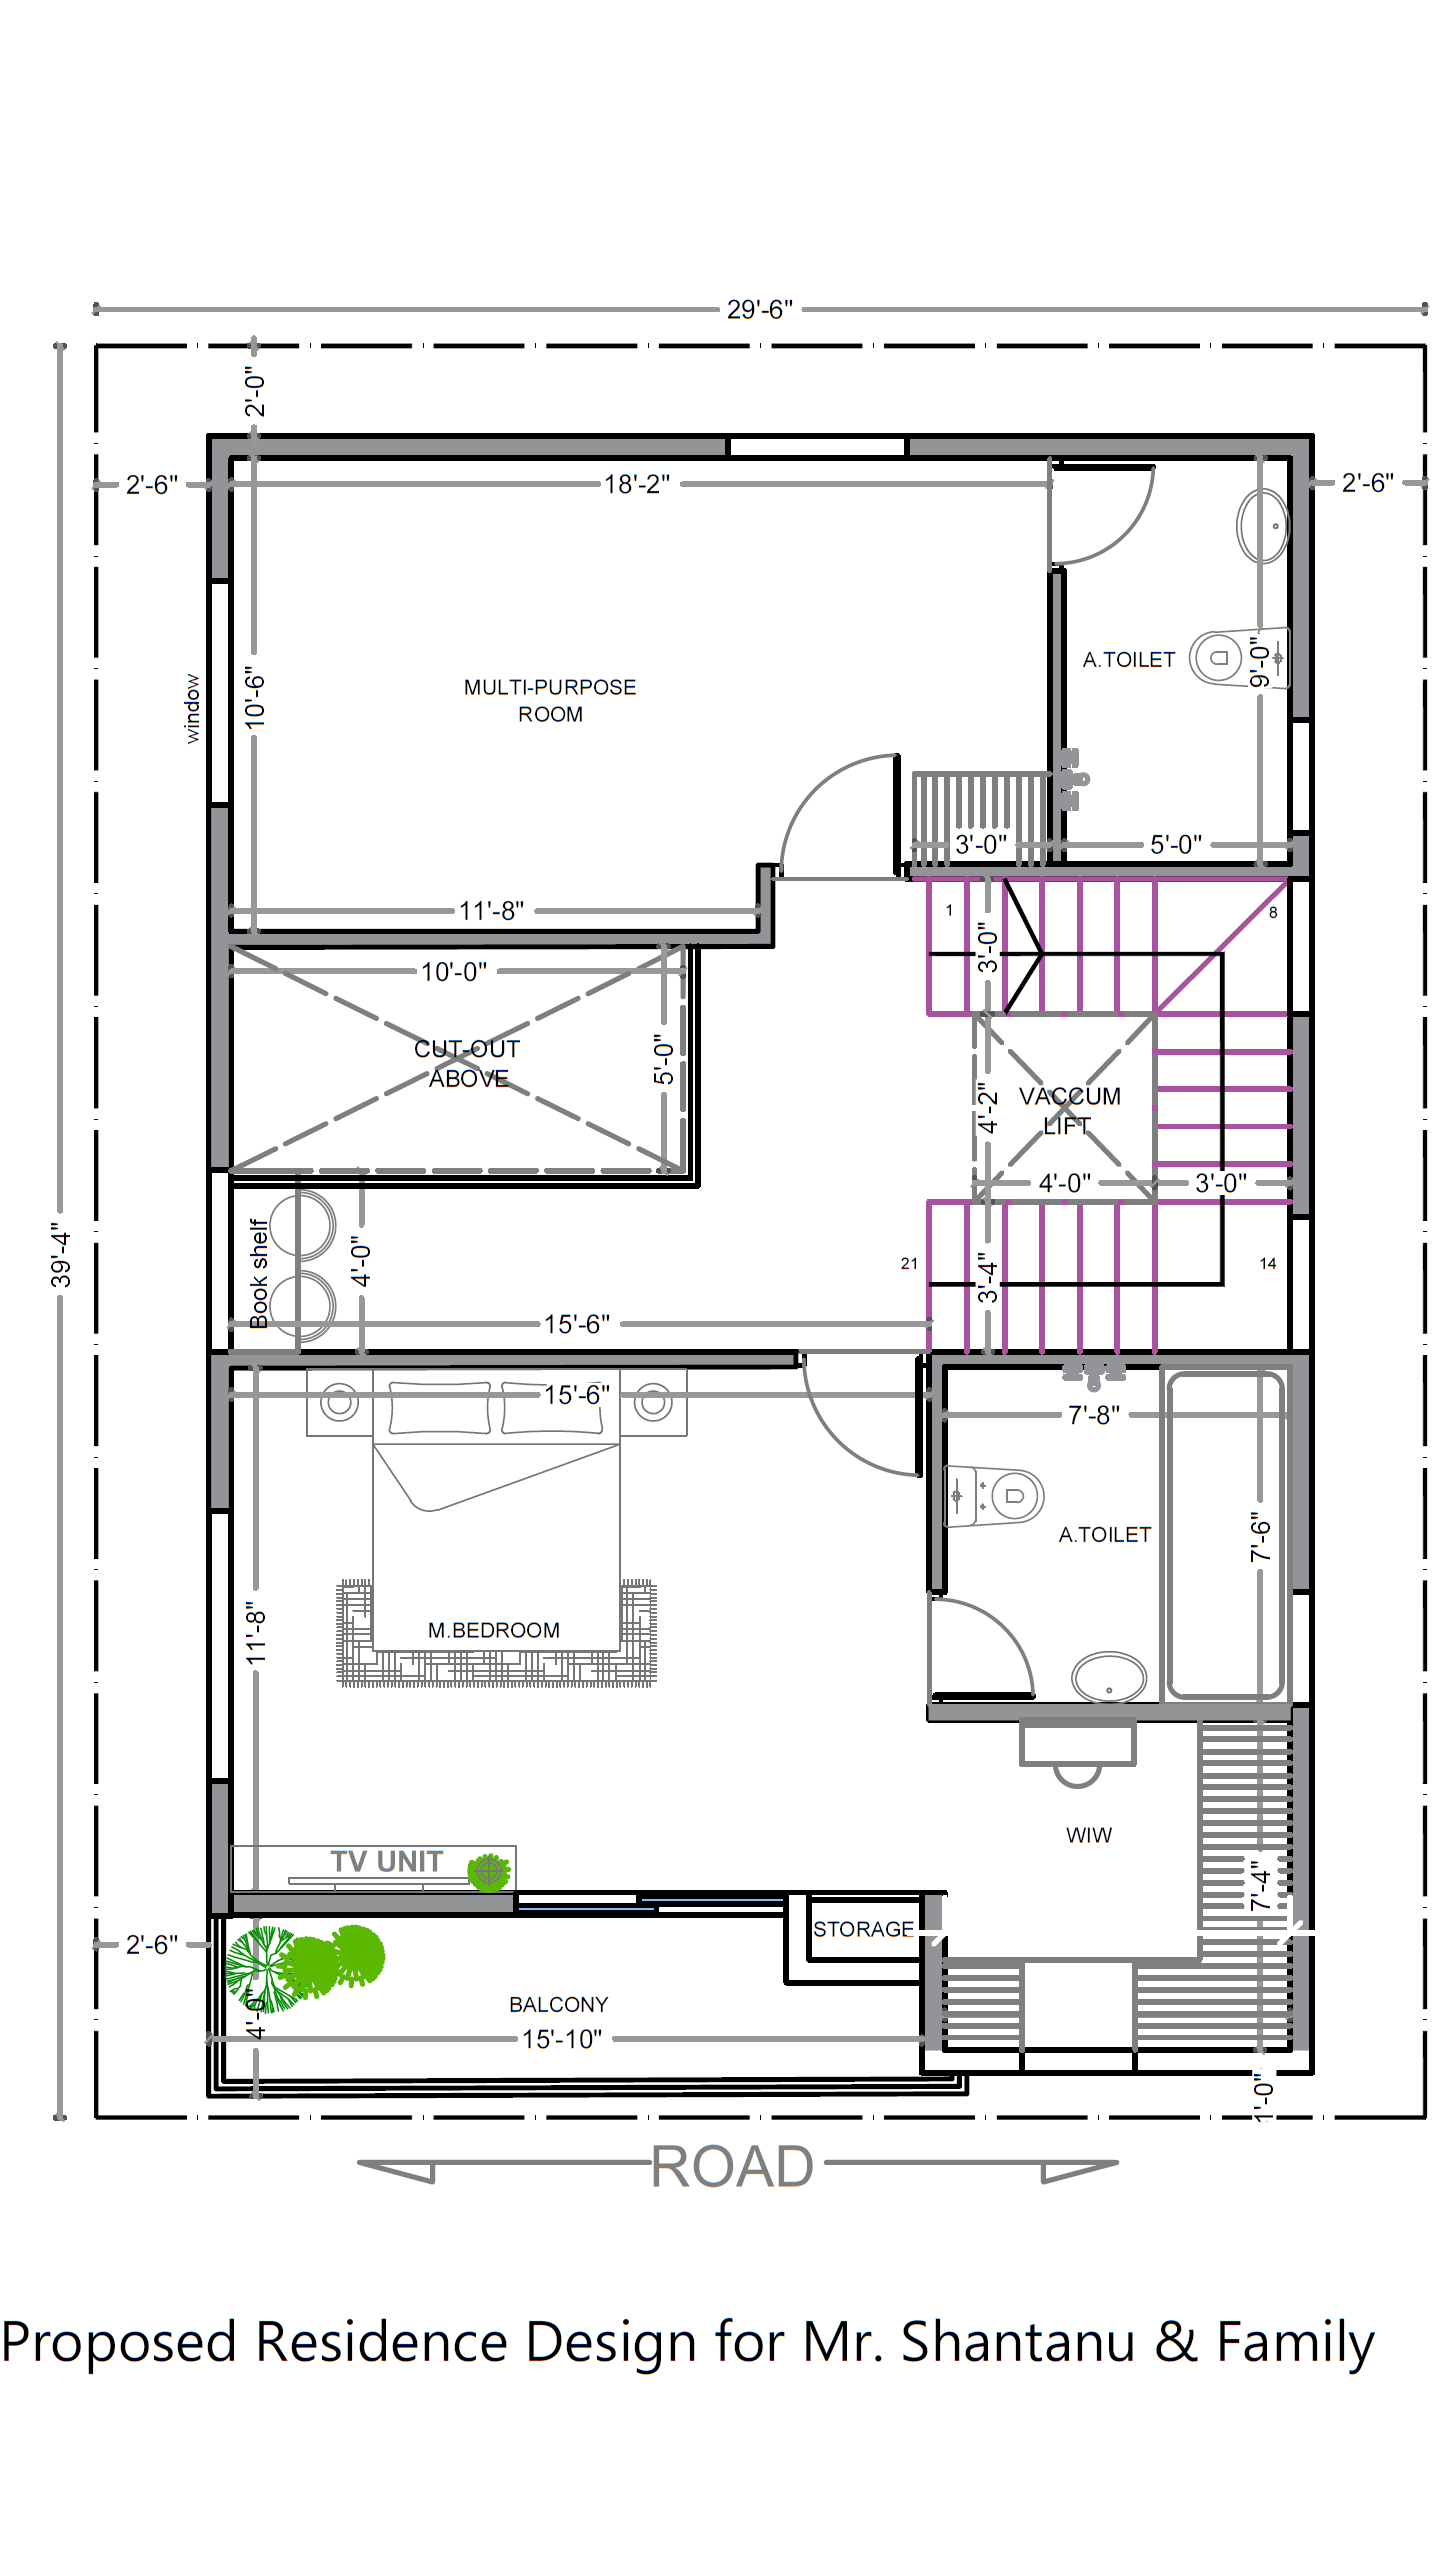door: (794, 1355, 929, 1486), (777, 752, 915, 875), (923, 1586, 1042, 1709), (1044, 452, 1161, 573)
